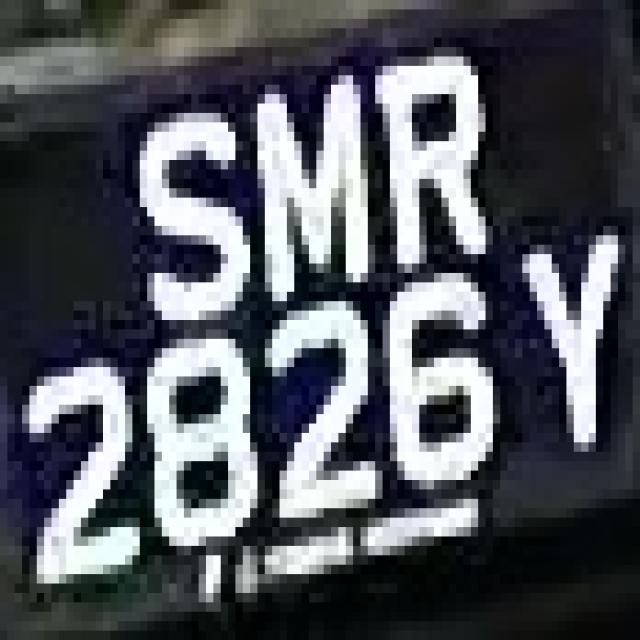2: (243, 273, 397, 555), (22, 358, 169, 602)
6: (383, 273, 500, 499)
8: (125, 358, 294, 593)
M: (243, 57, 375, 301)
R: (338, 38, 501, 282)
S: (125, 85, 250, 339)
Y: (486, 236, 632, 490)
